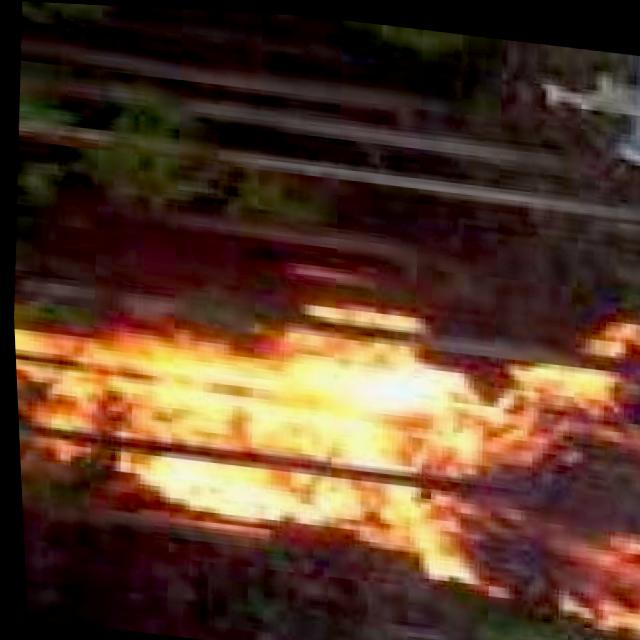fire: (9, 245, 640, 640)
